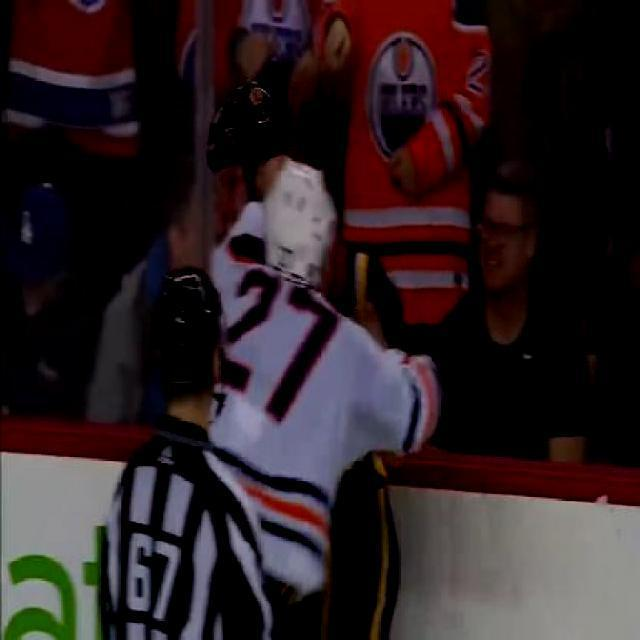fight: (200, 83, 446, 640)
